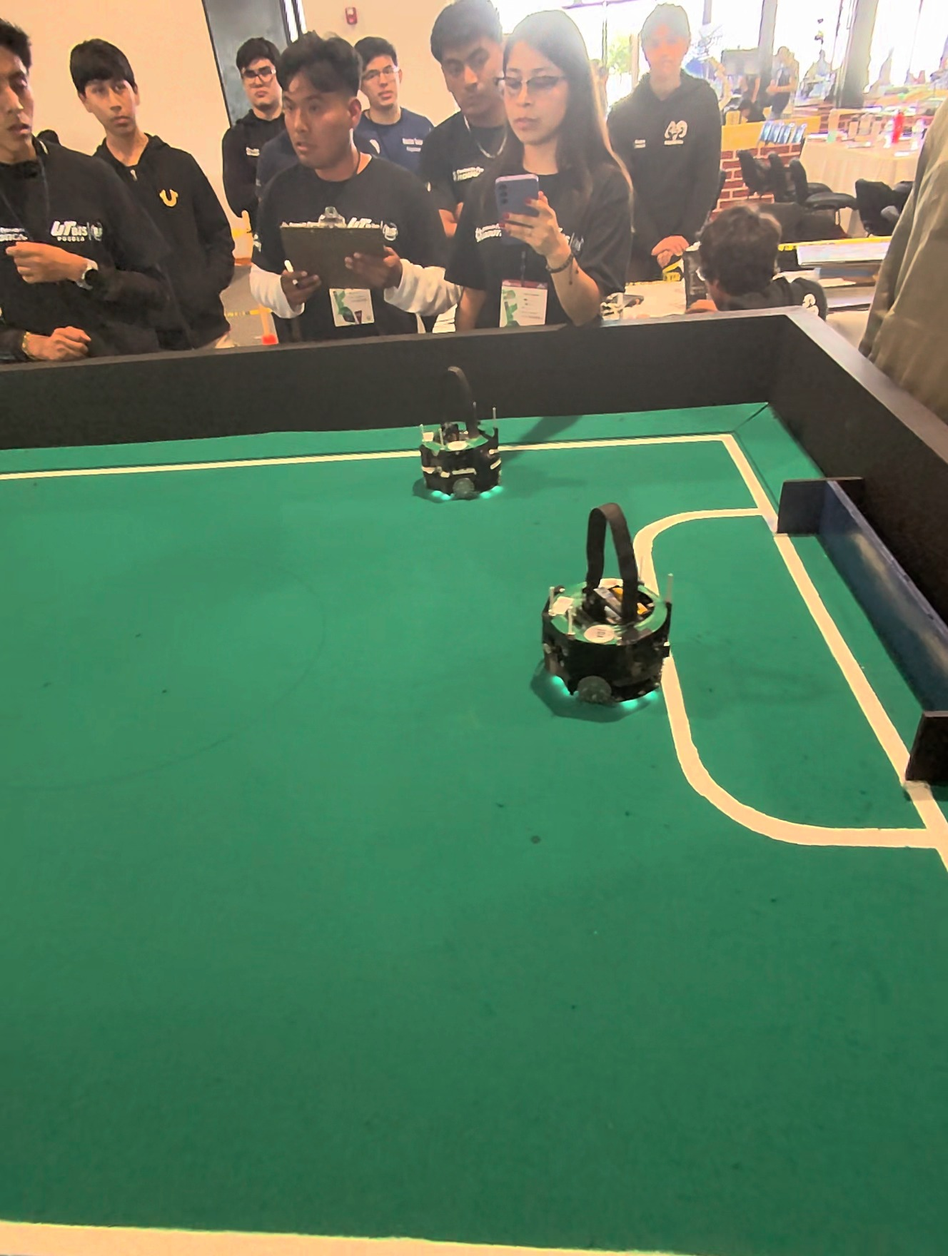Robot: (532, 492, 696, 739), (414, 360, 508, 515)
